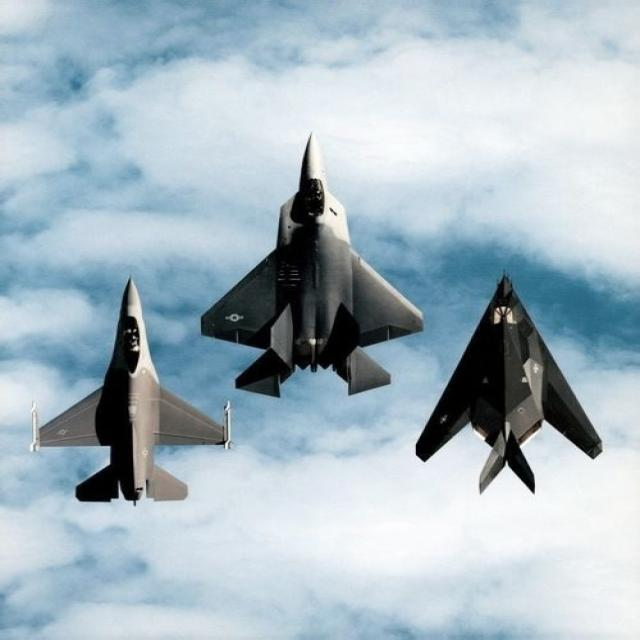MIL_Plane: (200, 130, 423, 398), (28, 274, 234, 507), (416, 268, 603, 495)
